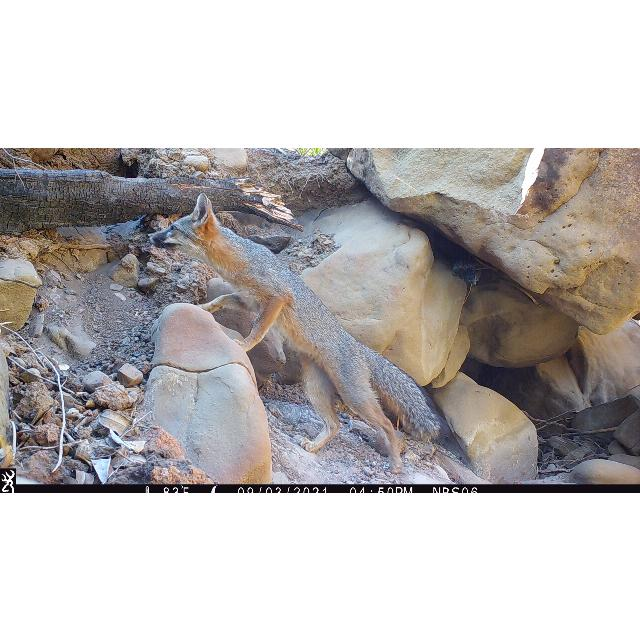animals: (150, 192, 442, 476)
